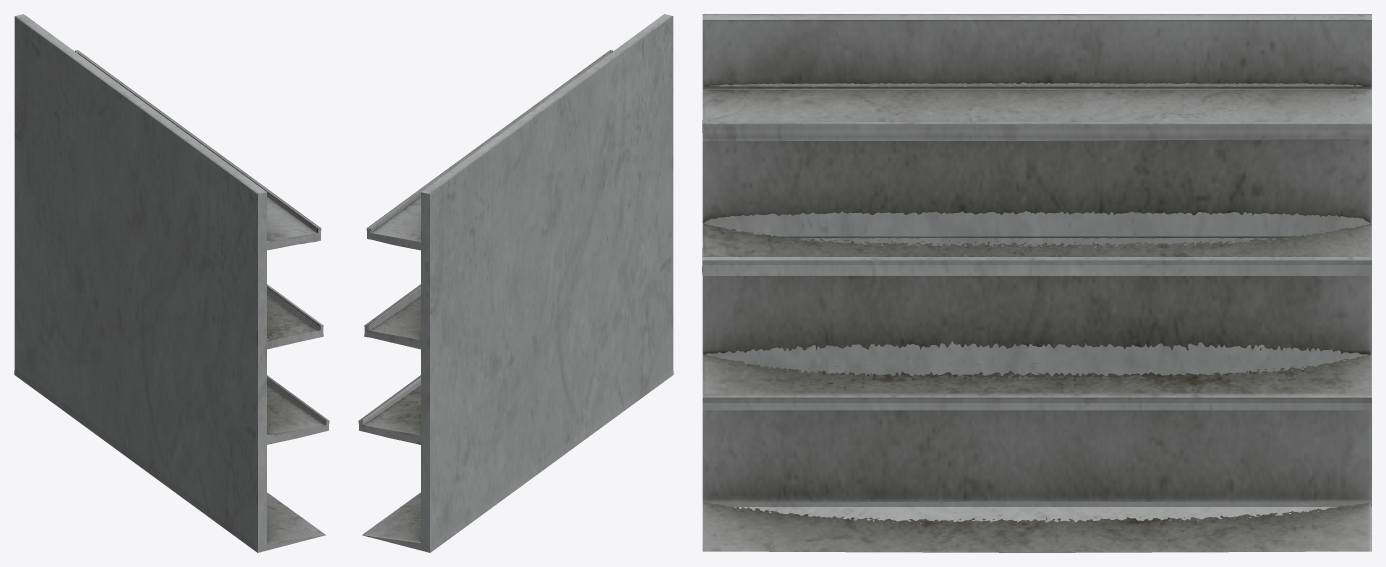
Rendered from ShelfTextured.fbx.
3 views of the same model, side by side, from view 1: azimuth 30°, elevation 25°; view 2: azimuth 150°, elevation 25°; view 3: azimuth 270°, elevation 25° (orthographic). The views are drawn at different scales.
Visible parts, largest first — view 1: Cube; view 2: Cube; view 3: Cube.
Boxes of the visible parts, left/top/right/bottom form: Cube: left=14, top=14, right=329, bottom=552; Cube: left=358, top=14, right=673, bottom=552; Cube: left=702, top=14, right=1371, bottom=552.
Bounding box in the file's own units: 67.72 × 322 × 397.
